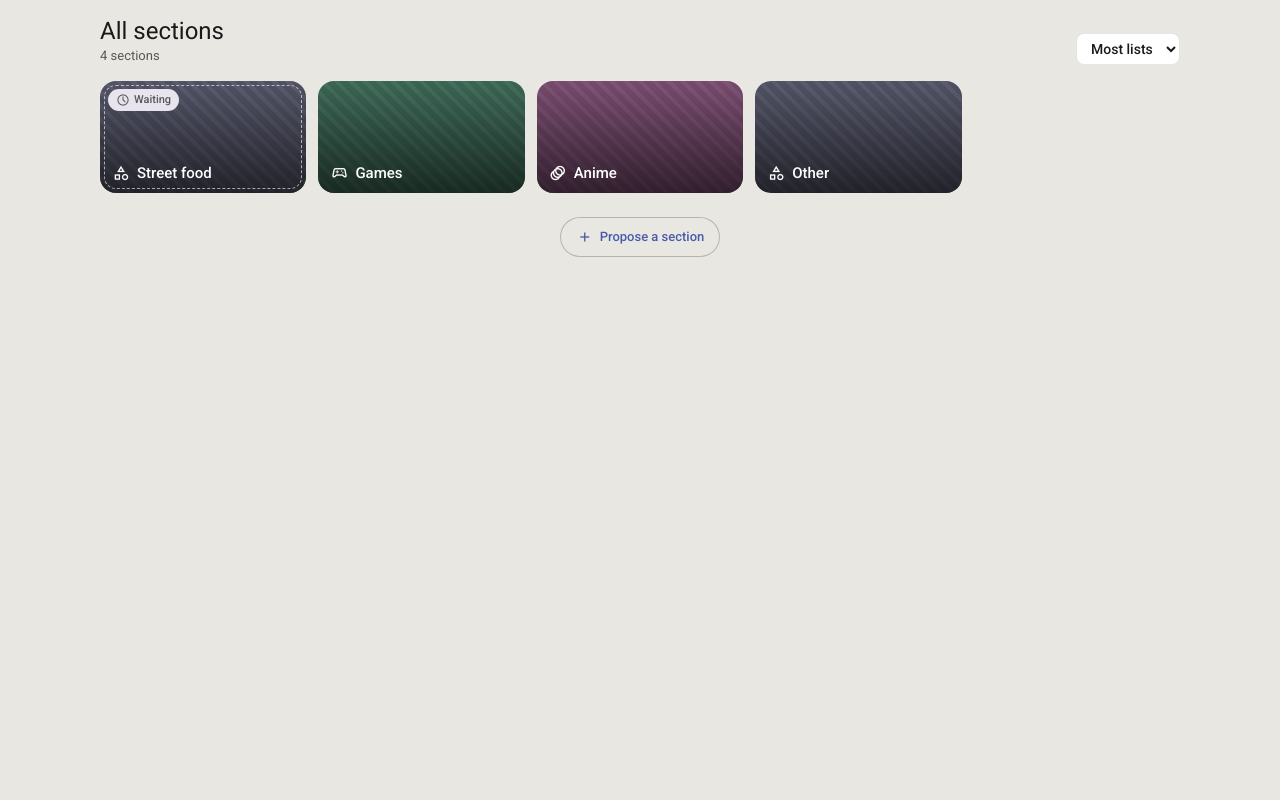
Test case: All sections: proposing › opens the form for a member, counting what already waits; Cancel closes it
Expected: the text "4 sections" is shown, [100,48,160,63]
Click the button "Propose a section" at (640, 237), box [560,217,720,257]
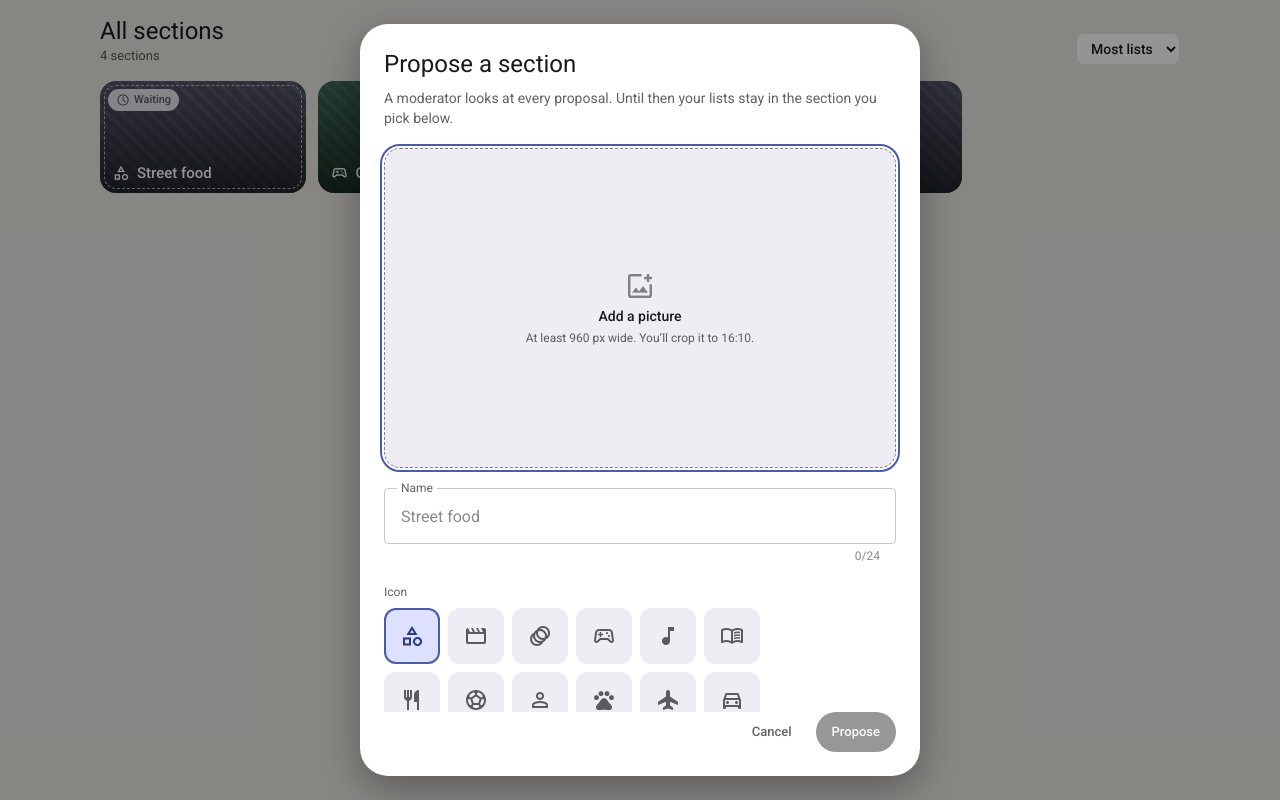
Click the button "Cancel" at (772, 732), box [736,714,808,750]
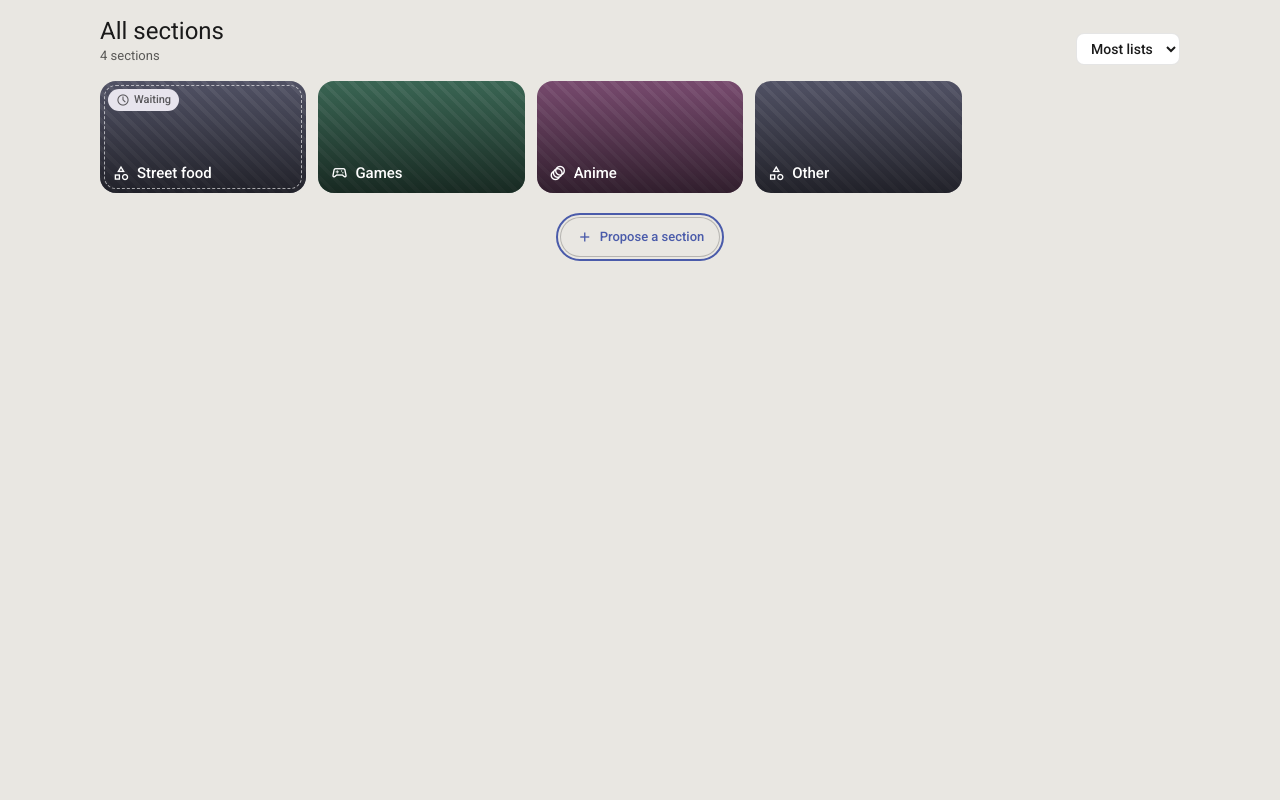
Expected: the dialog is gone
